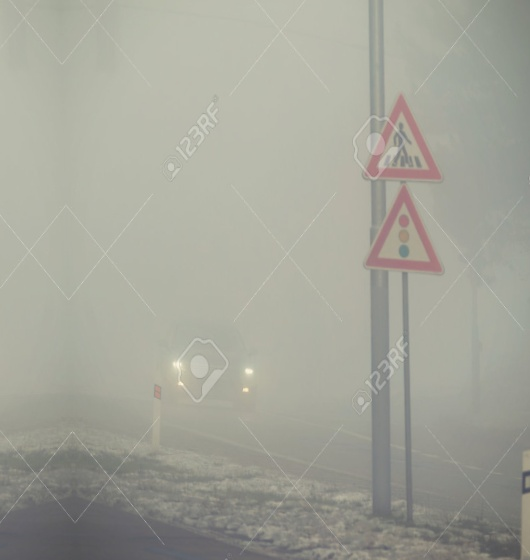Pedestrian crossing: (359, 94, 442, 181)
Traffic lights: (358, 181, 443, 279)
